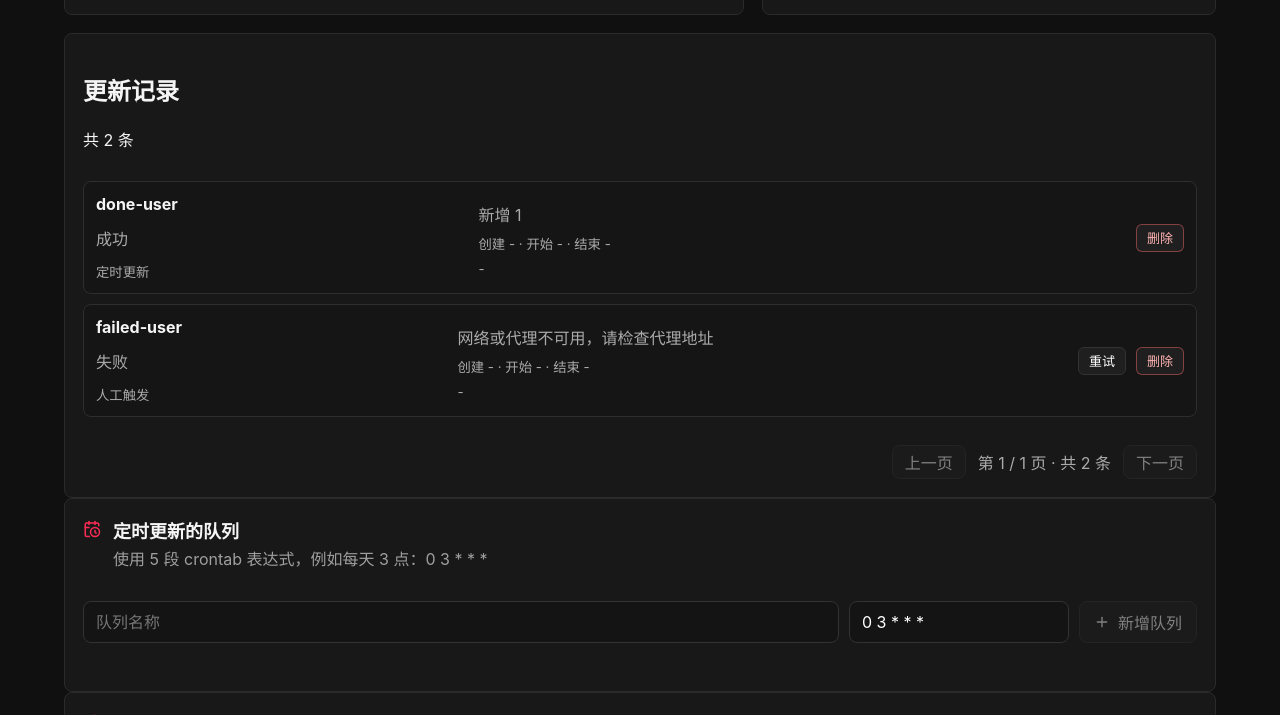
Scenario: retries failed update jobs without retrying completed jobs
(page scrolled)
expect the text "done-user" is shown: met, box [96, 194, 178, 214]
expect the text "failed-user" is shown: met, box [96, 317, 182, 337]
Click the button "重试": (1102, 361) [1078, 347, 1126, 375]
(page scrolled)
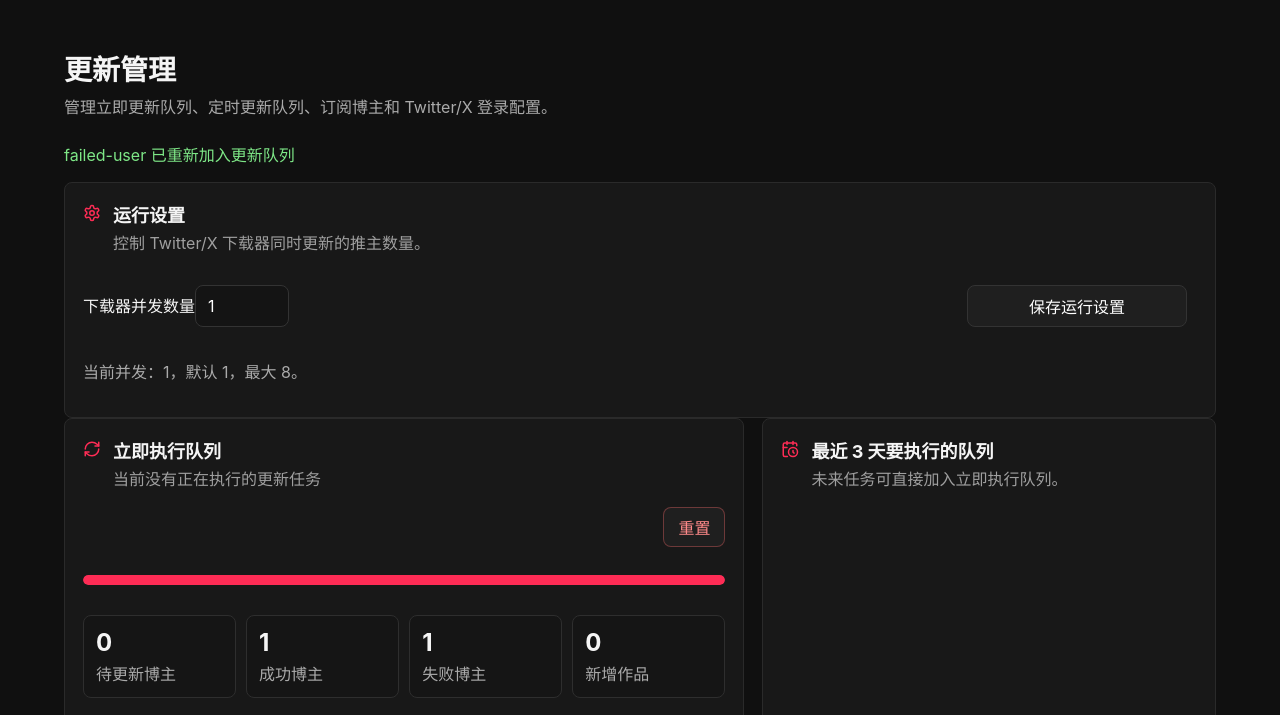
expect the text "failed-user 已重新加入更新队列" is shown: met, box [64, 145, 295, 165]
